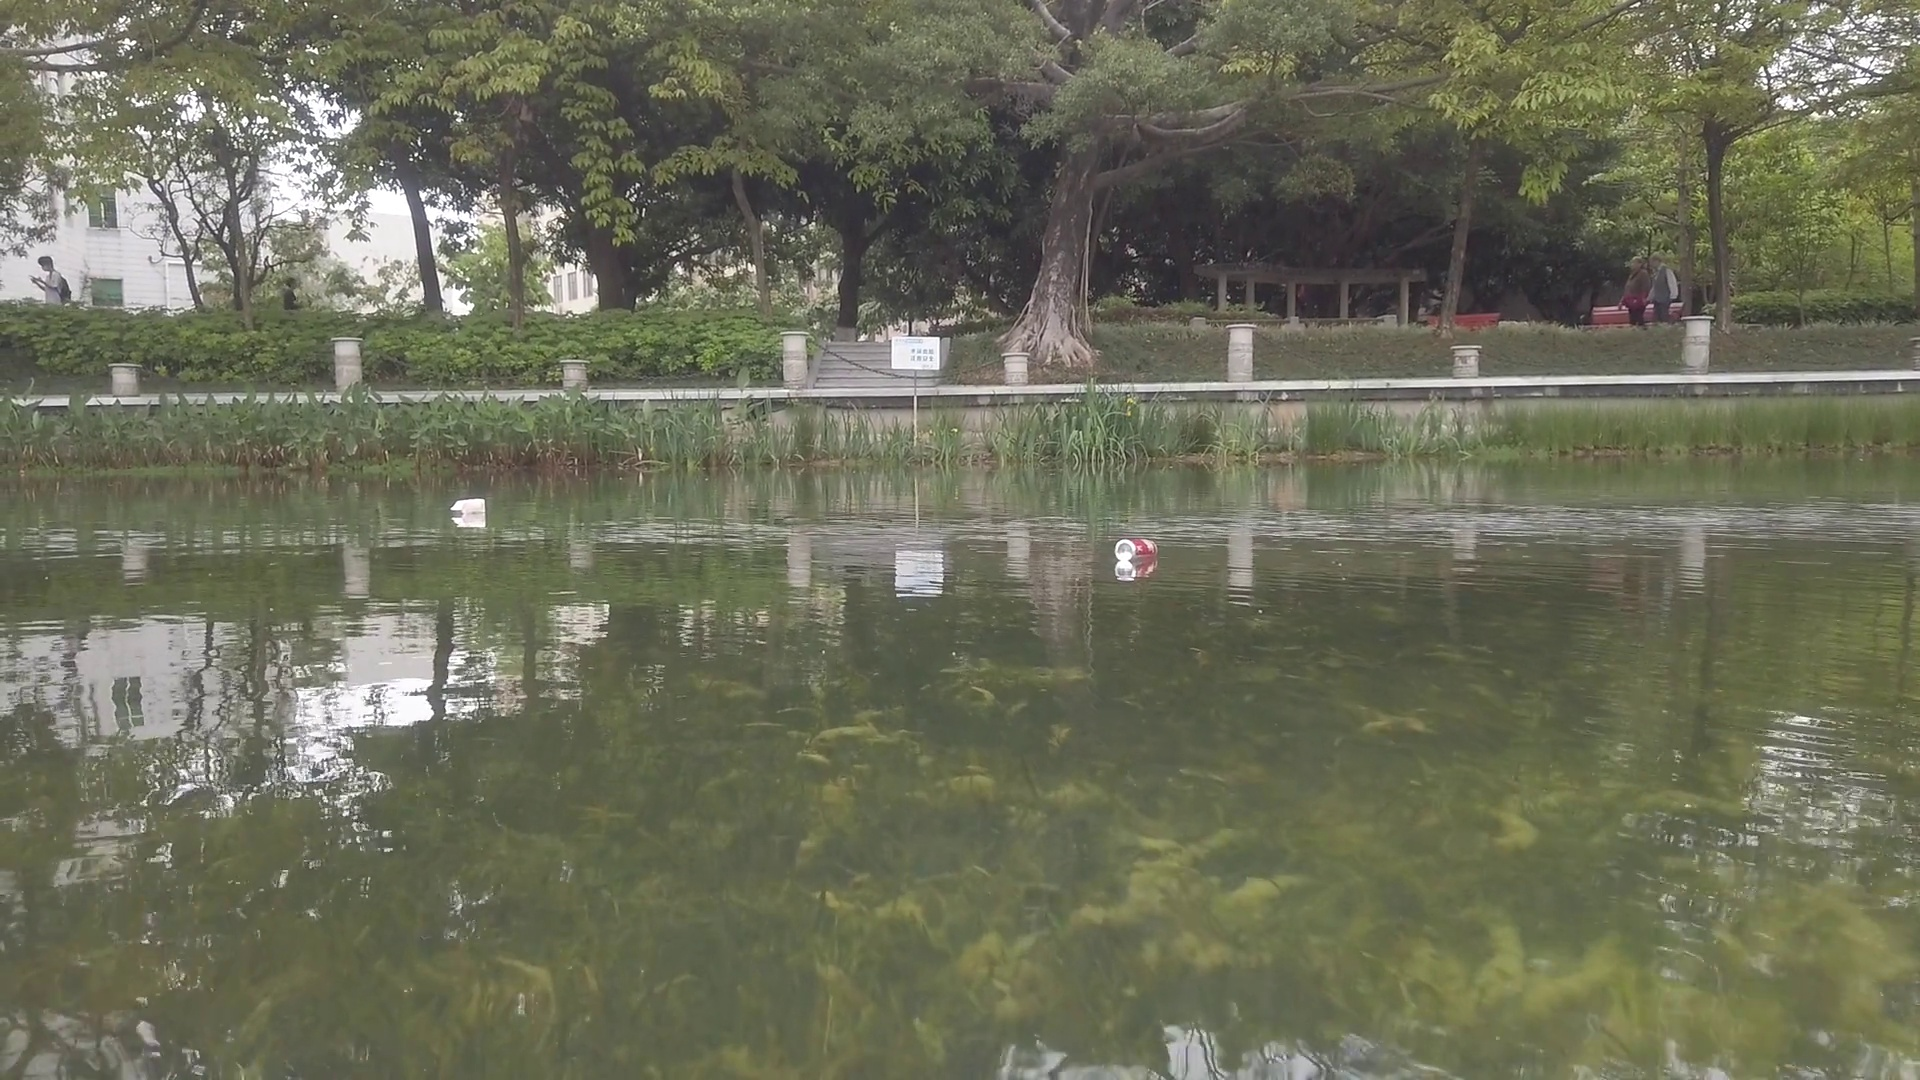bottle: (1116, 537, 1160, 559)
carton: (452, 500, 485, 512)
